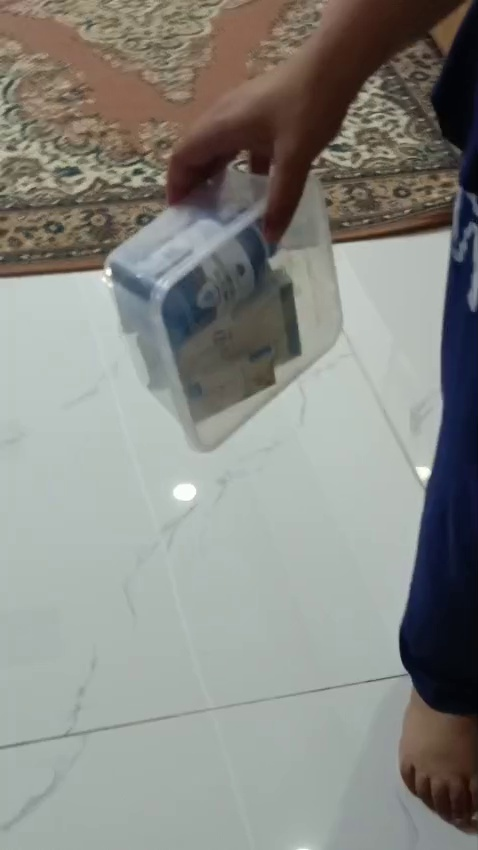medicine box: (94, 166, 377, 448)
